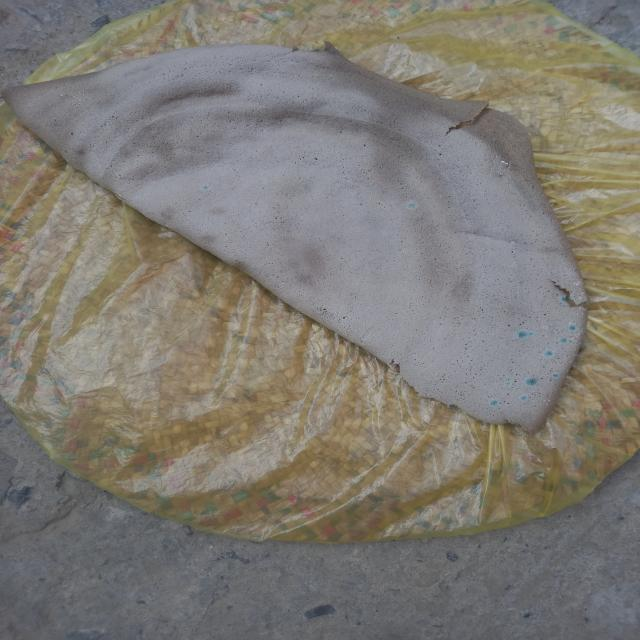injera_mold: (525, 376, 538, 386), (560, 296, 574, 304), (576, 290, 587, 300), (574, 307, 587, 315), (571, 332, 582, 341), (517, 331, 528, 338), (544, 350, 554, 357), (489, 399, 498, 406), (568, 324, 577, 331), (406, 202, 416, 208), (518, 395, 528, 400), (552, 373, 560, 379), (559, 337, 567, 343), (573, 281, 584, 285), (77, 98, 82, 104), (202, 185, 209, 189), (501, 160, 508, 164), (504, 382, 510, 386), (562, 374, 566, 379), (529, 332, 533, 336), (573, 347, 577, 351), (143, 55, 150, 57), (543, 326, 547, 329), (508, 163, 511, 166), (508, 166, 511, 169), (574, 344, 578, 346), (573, 354, 577, 356), (61, 95, 65, 97), (72, 96, 76, 98), (543, 400, 546, 402), (548, 399, 550, 402), (546, 403, 548, 406), (490, 168, 493, 170), (500, 172, 502, 175), (492, 160, 495, 162), (495, 156, 498, 158), (475, 167, 477, 168), (153, 55, 155, 56), (76, 105, 78, 106), (78, 92, 80, 93), (83, 94, 85, 95)
